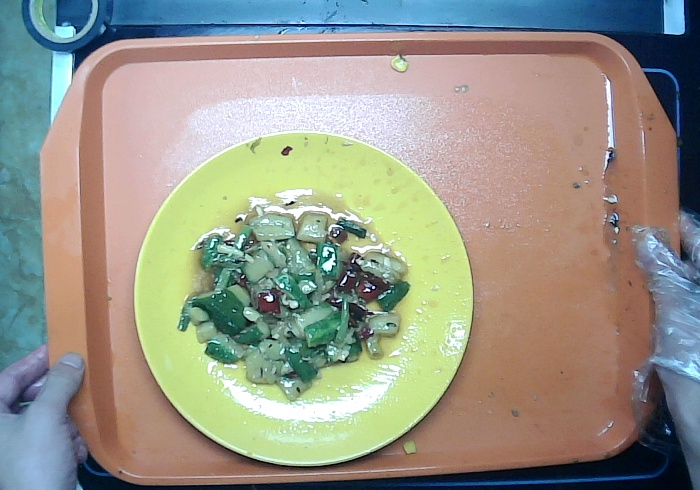HZYJPL-Huang_Se_Yuan_Pan: (133, 128, 477, 467)
